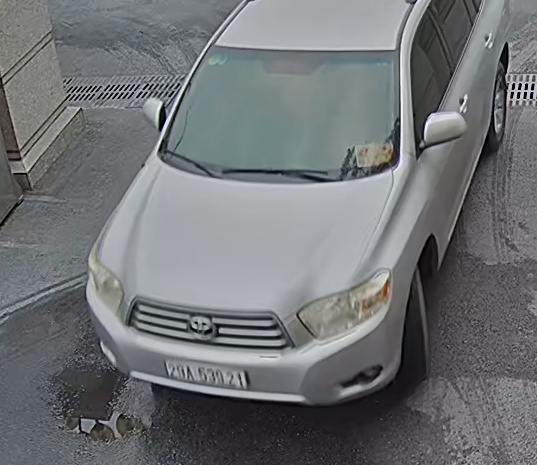vehicle plate: (155, 353, 251, 394)
